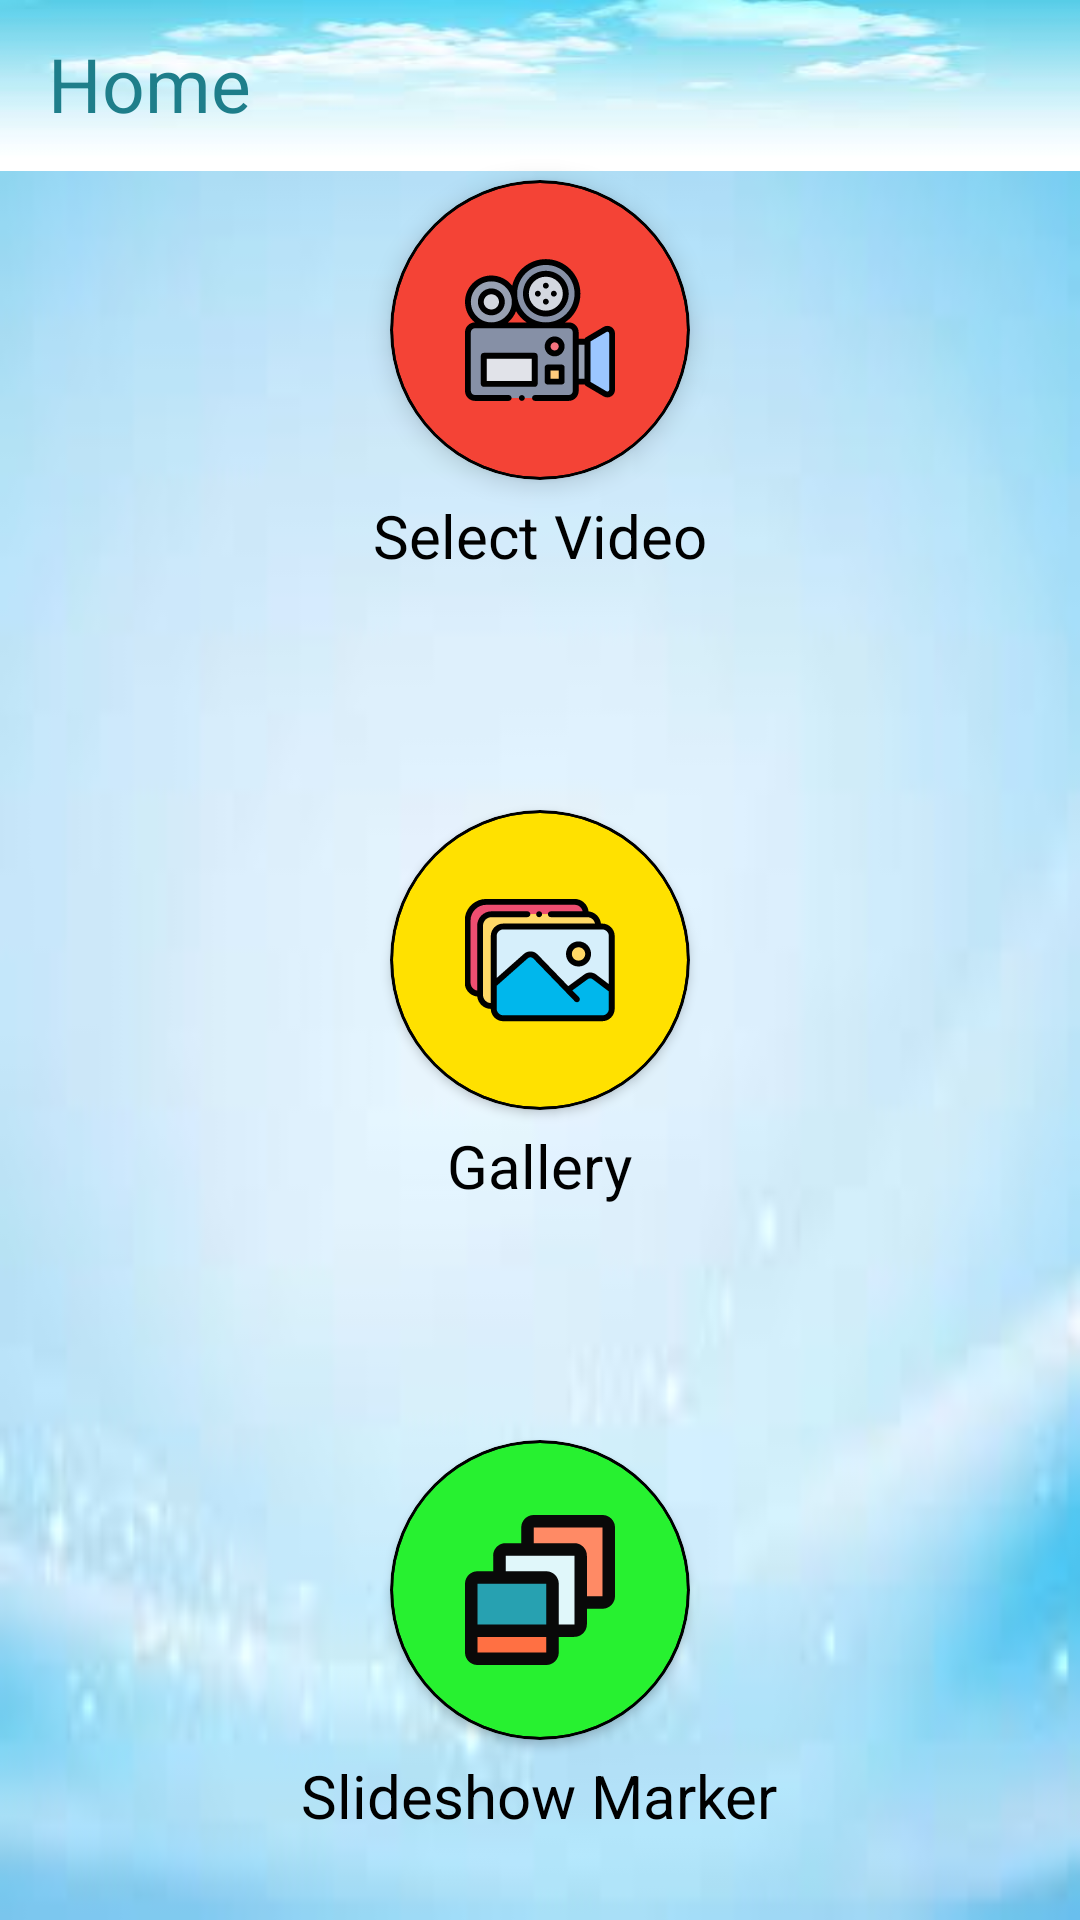

Screen size 1080w x 1920h. Icon name, then its center in pixels as (x,y):
camera: (540,330)
